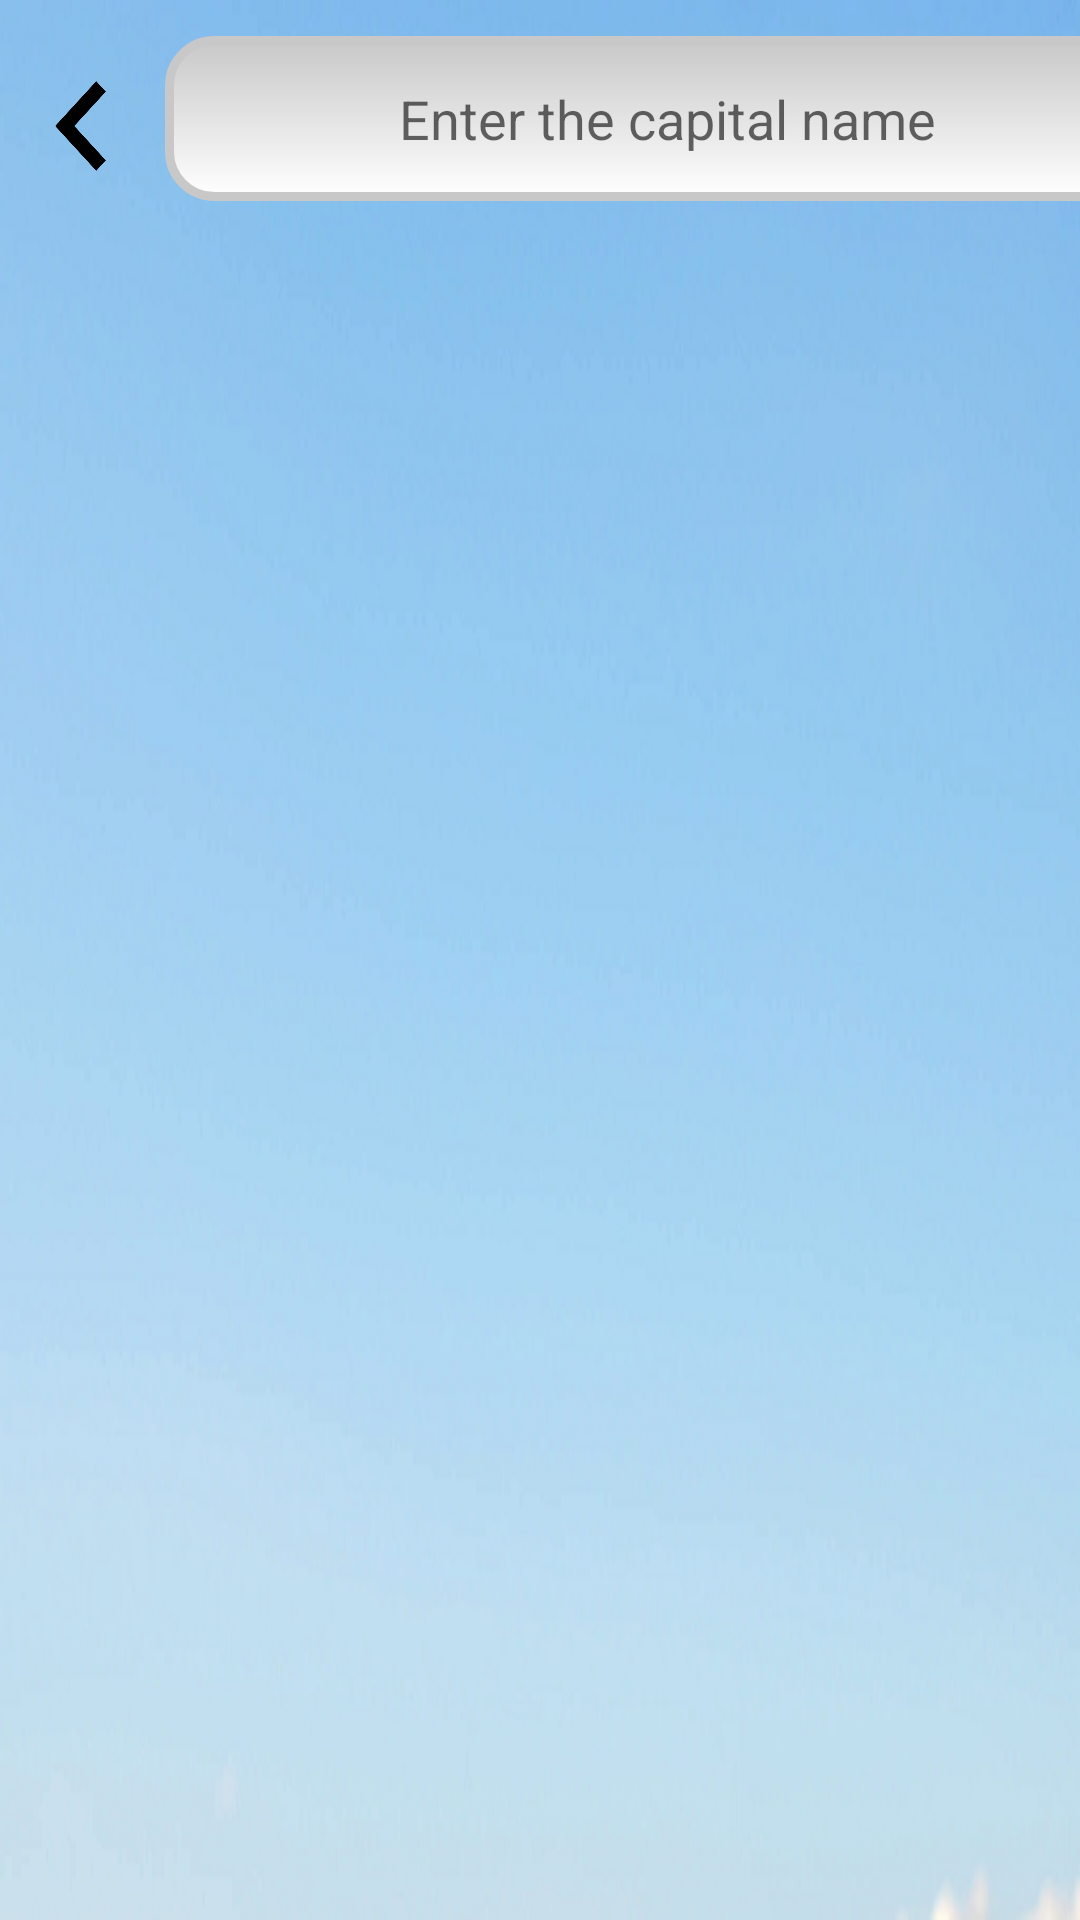

Screen size 1080px×1920px. Icon name, then its center in pixels as (x=x, y=y):
back: (x=80, y=126)
